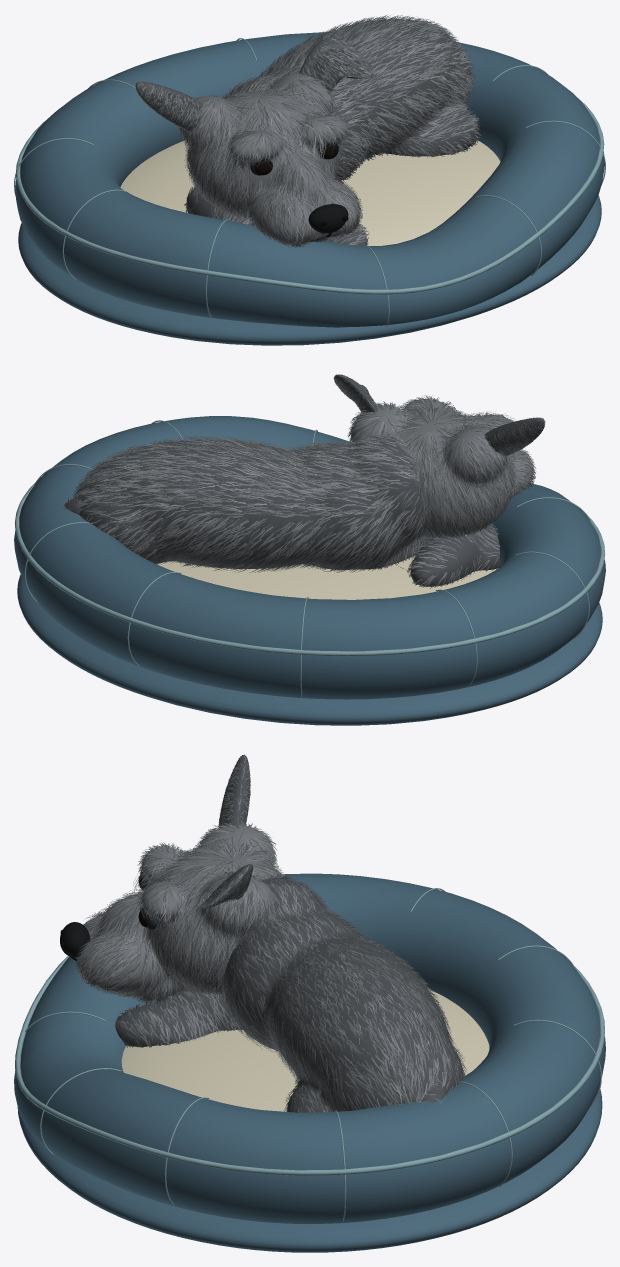
Rendered from gray-pup-in-bed.glb.
3 renders of one model, top to bottom at view 1: azimuth 30°, elevation 25°; view 2: azimuth 150°, elevation 25°; view 3: azimuth 270°, elevation 25°, orthographic. The views are drawn at different scales.
Parts seen in each view (by area): view 1: Gray pup | Bed | slate blue woven fabric.001, Gray pup | Coat | pewter.001, Gray pup | Coat | charcoal undercoat.001, Gray pup | Coat | graphite.001, Gray pup | Bed | warm ivory cushion.001, Gray pup | Coat | silver.001, Gray pup | Bed | pale blue piping.001, Gray pup | Coat | soft gray tips.001, Gray pup | Ear velvet | charcoal gray.001, Gray pup | Nose | soft black.001, Gray pup | Eyes | deep warm brown.001; view 2: Gray pup | Bed | slate blue woven fabric.001, Gray pup | Coat | charcoal undercoat.001, Gray pup | Coat | pewter.001, Gray pup | Coat | graphite.001, Gray pup | Coat | silver.001, Gray pup | Bed | warm ivory cushion.001, Gray pup | Bed | pale blue piping.001, Gray pup | Coat | soft gray tips.001; view 3: Gray pup | Bed | slate blue woven fabric.001, Gray pup | Coat | pewter.001, Gray pup | Coat | charcoal undercoat.001, Gray pup | Coat | graphite.001, Gray pup | Coat | silver.001, Gray pup | Bed | warm ivory cushion.001, Gray pup | Bed | pale blue piping.001, Gray pup | Coat | soft gray tips.001, Gray pup | Nose | soft black.001.
Part boxes in pixels (x1,y1,x2,y2): Gray pup | Bed | slate blue woven fabric.001: [15, 32, 604, 345]; Gray pup | Coat | pewter.001: [135, 14, 481, 247]; Gray pup | Coat | charcoal undercoat.001: [135, 16, 479, 245]; Gray pup | Coat | graphite.001: [137, 15, 480, 246]; Gray pup | Bed | warm ivory cushion.001: [120, 140, 500, 245]; Gray pup | Coat | silver.001: [135, 16, 478, 247]; Gray pup | Bed | pale blue piping.001: [14, 38, 605, 326]; Gray pup | Coat | soft gray tips.001: [136, 16, 480, 246]; Gray pup | Ear velvet | charcoal gray.001: [148, 48, 366, 129]; Gray pup | Nose | soft black.001: [308, 204, 348, 233]; Gray pup | Eyes | deep warm brown.001: [254, 143, 338, 175]; Gray pup | Bed | slate blue woven fabric.001: [14, 416, 605, 725]; Gray pup | Coat | charcoal undercoat.001: [63, 374, 544, 588]; Gray pup | Coat | pewter.001: [63, 374, 545, 587]; Gray pup | Coat | graphite.001: [67, 375, 544, 587]; Gray pup | Coat | silver.001: [73, 375, 544, 586]; Gray pup | Bed | warm ivory cushion.001: [157, 555, 498, 599]; Gray pup | Bed | pale blue piping.001: [14, 420, 604, 697]; Gray pup | Coat | soft gray tips.001: [60, 374, 544, 583]; Gray pup | Bed | slate blue woven fabric.001: [14, 873, 605, 1252]; Gray pup | Coat | pewter.001: [75, 757, 466, 1112]; Gray pup | Coat | charcoal undercoat.001: [77, 755, 463, 1112]; Gray pup | Coat | graphite.001: [75, 758, 466, 1112]; Gray pup | Coat | silver.001: [75, 755, 465, 1112]; Gray pup | Bed | warm ivory cushion.001: [121, 989, 489, 1111]; Gray pup | Bed | pale blue piping.001: [15, 888, 604, 1222]; Gray pup | Coat | soft gray tips.001: [78, 761, 464, 1112]; Gray pup | Nose | soft black.001: [60, 922, 90, 957].
Size of the model in its own units: 0.6313 by 0.2845 by 0.5478.
